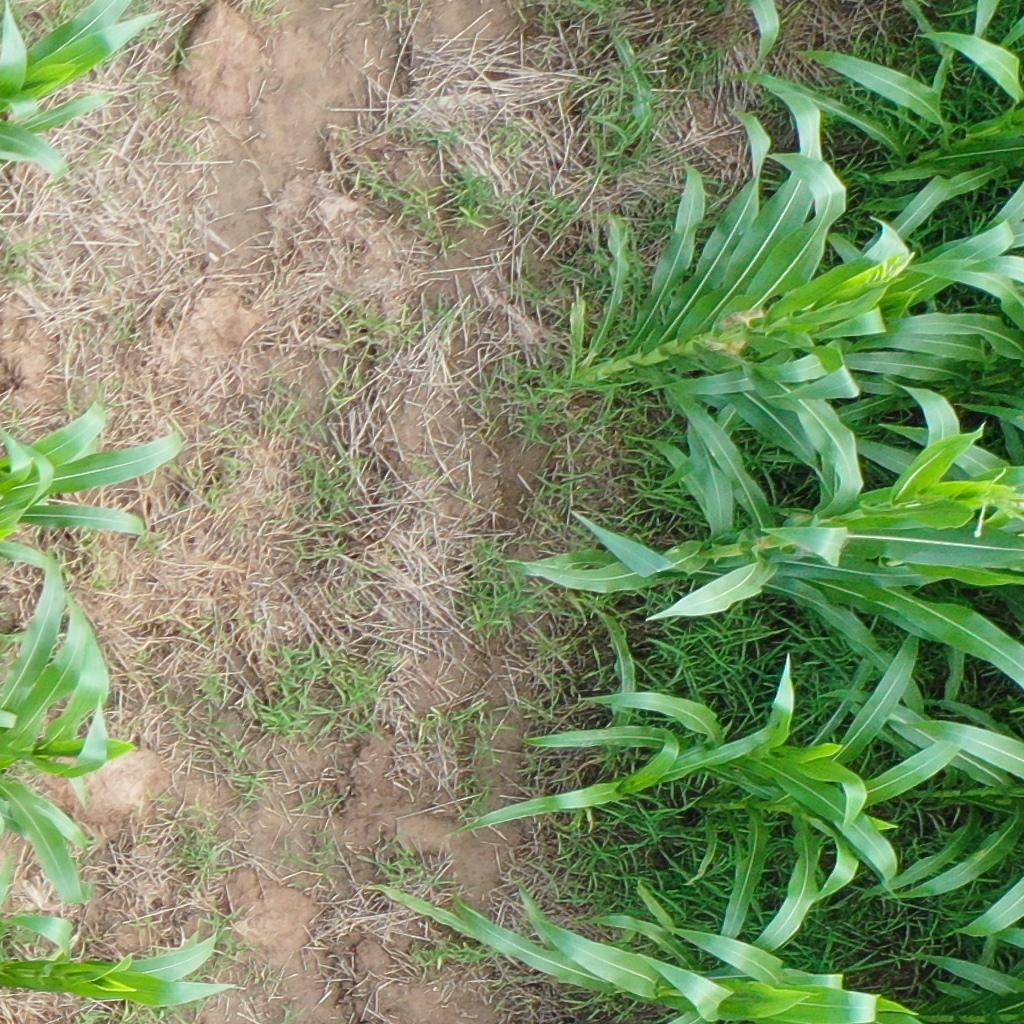Tassel: (968, 461, 1024, 537), (864, 243, 916, 287)
